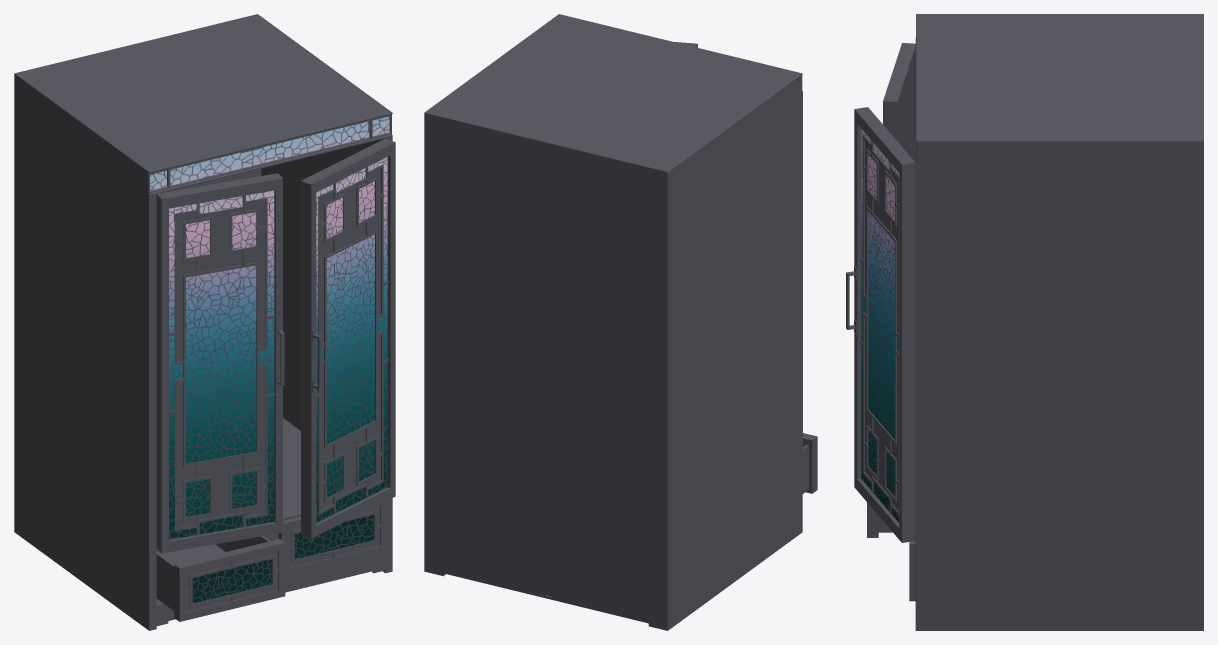
The model's file is cabinet_open.fbx.
3 views of the same model, side by side, from view 1: azimuth 30°, elevation 25°; view 2: azimuth 150°, elevation 25°; view 3: azimuth 270°, elevation 25° (orthographic). The views are drawn at different scales.
Visible parts, largest first — view 1: cabinet.008; view 2: cabinet.008; view 3: cabinet.008.
Boxes of the visible parts, x1=… form: cabinet.008: x1=14, y1=14, x2=395, y2=630; cabinet.008: x1=424, y1=14, x2=817, y2=630; cabinet.008: x1=846, y1=14, x2=1203, y2=630.
Bounding box in the file's own units: 100 × 180 × 119.
1 material, 1 textured.
